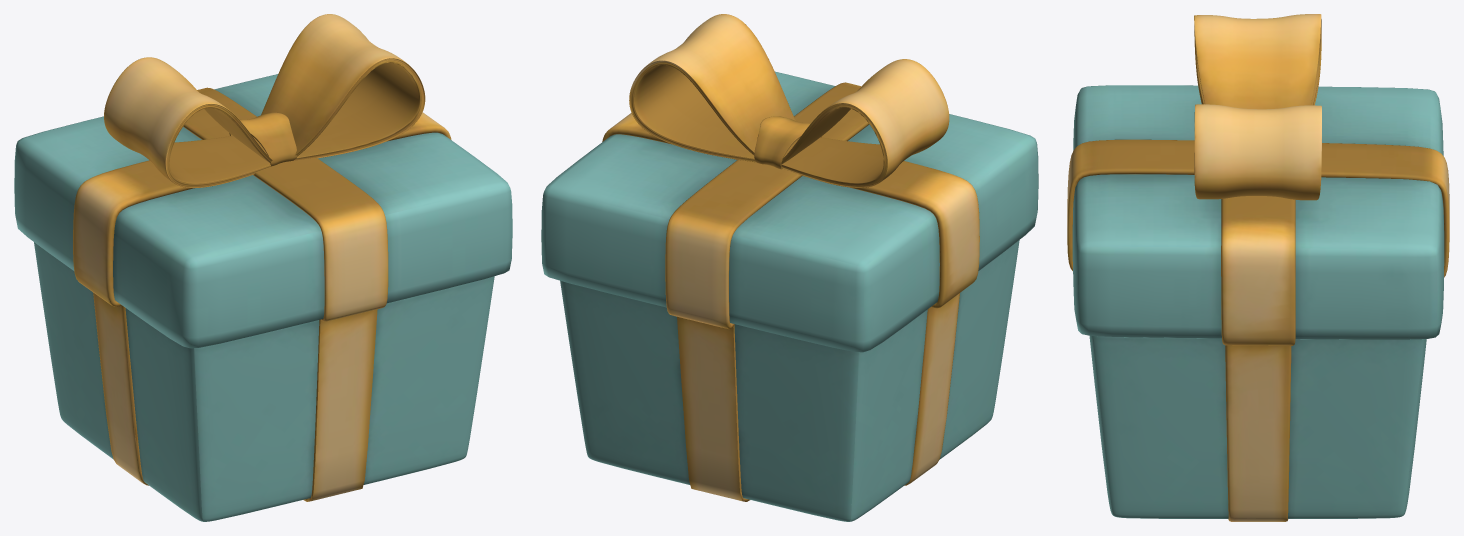
File: gift.C_SLtgVj.glb
3 renders of one model, left to right at view 1: azimuth 30°, elevation 25°; view 2: azimuth 150°, elevation 25°; view 3: azimuth 270°, elevation 25°, orthographic. The views are drawn at different scales.
Visible parts, largest first — view 1: showpiece_gift; view 2: showpiece_gift; view 3: showpiece_gift.
Part boxes in pixels (bbox=[...]): showpiece_gift: bbox=[14, 14, 512, 521]; showpiece_gift: bbox=[541, 14, 1038, 521]; showpiece_gift: bbox=[1067, 14, 1449, 521].
Bounding box in the file's own units: 0.738 × 0.8 × 0.6874.
Materials: 1 (1 with a texture image).
